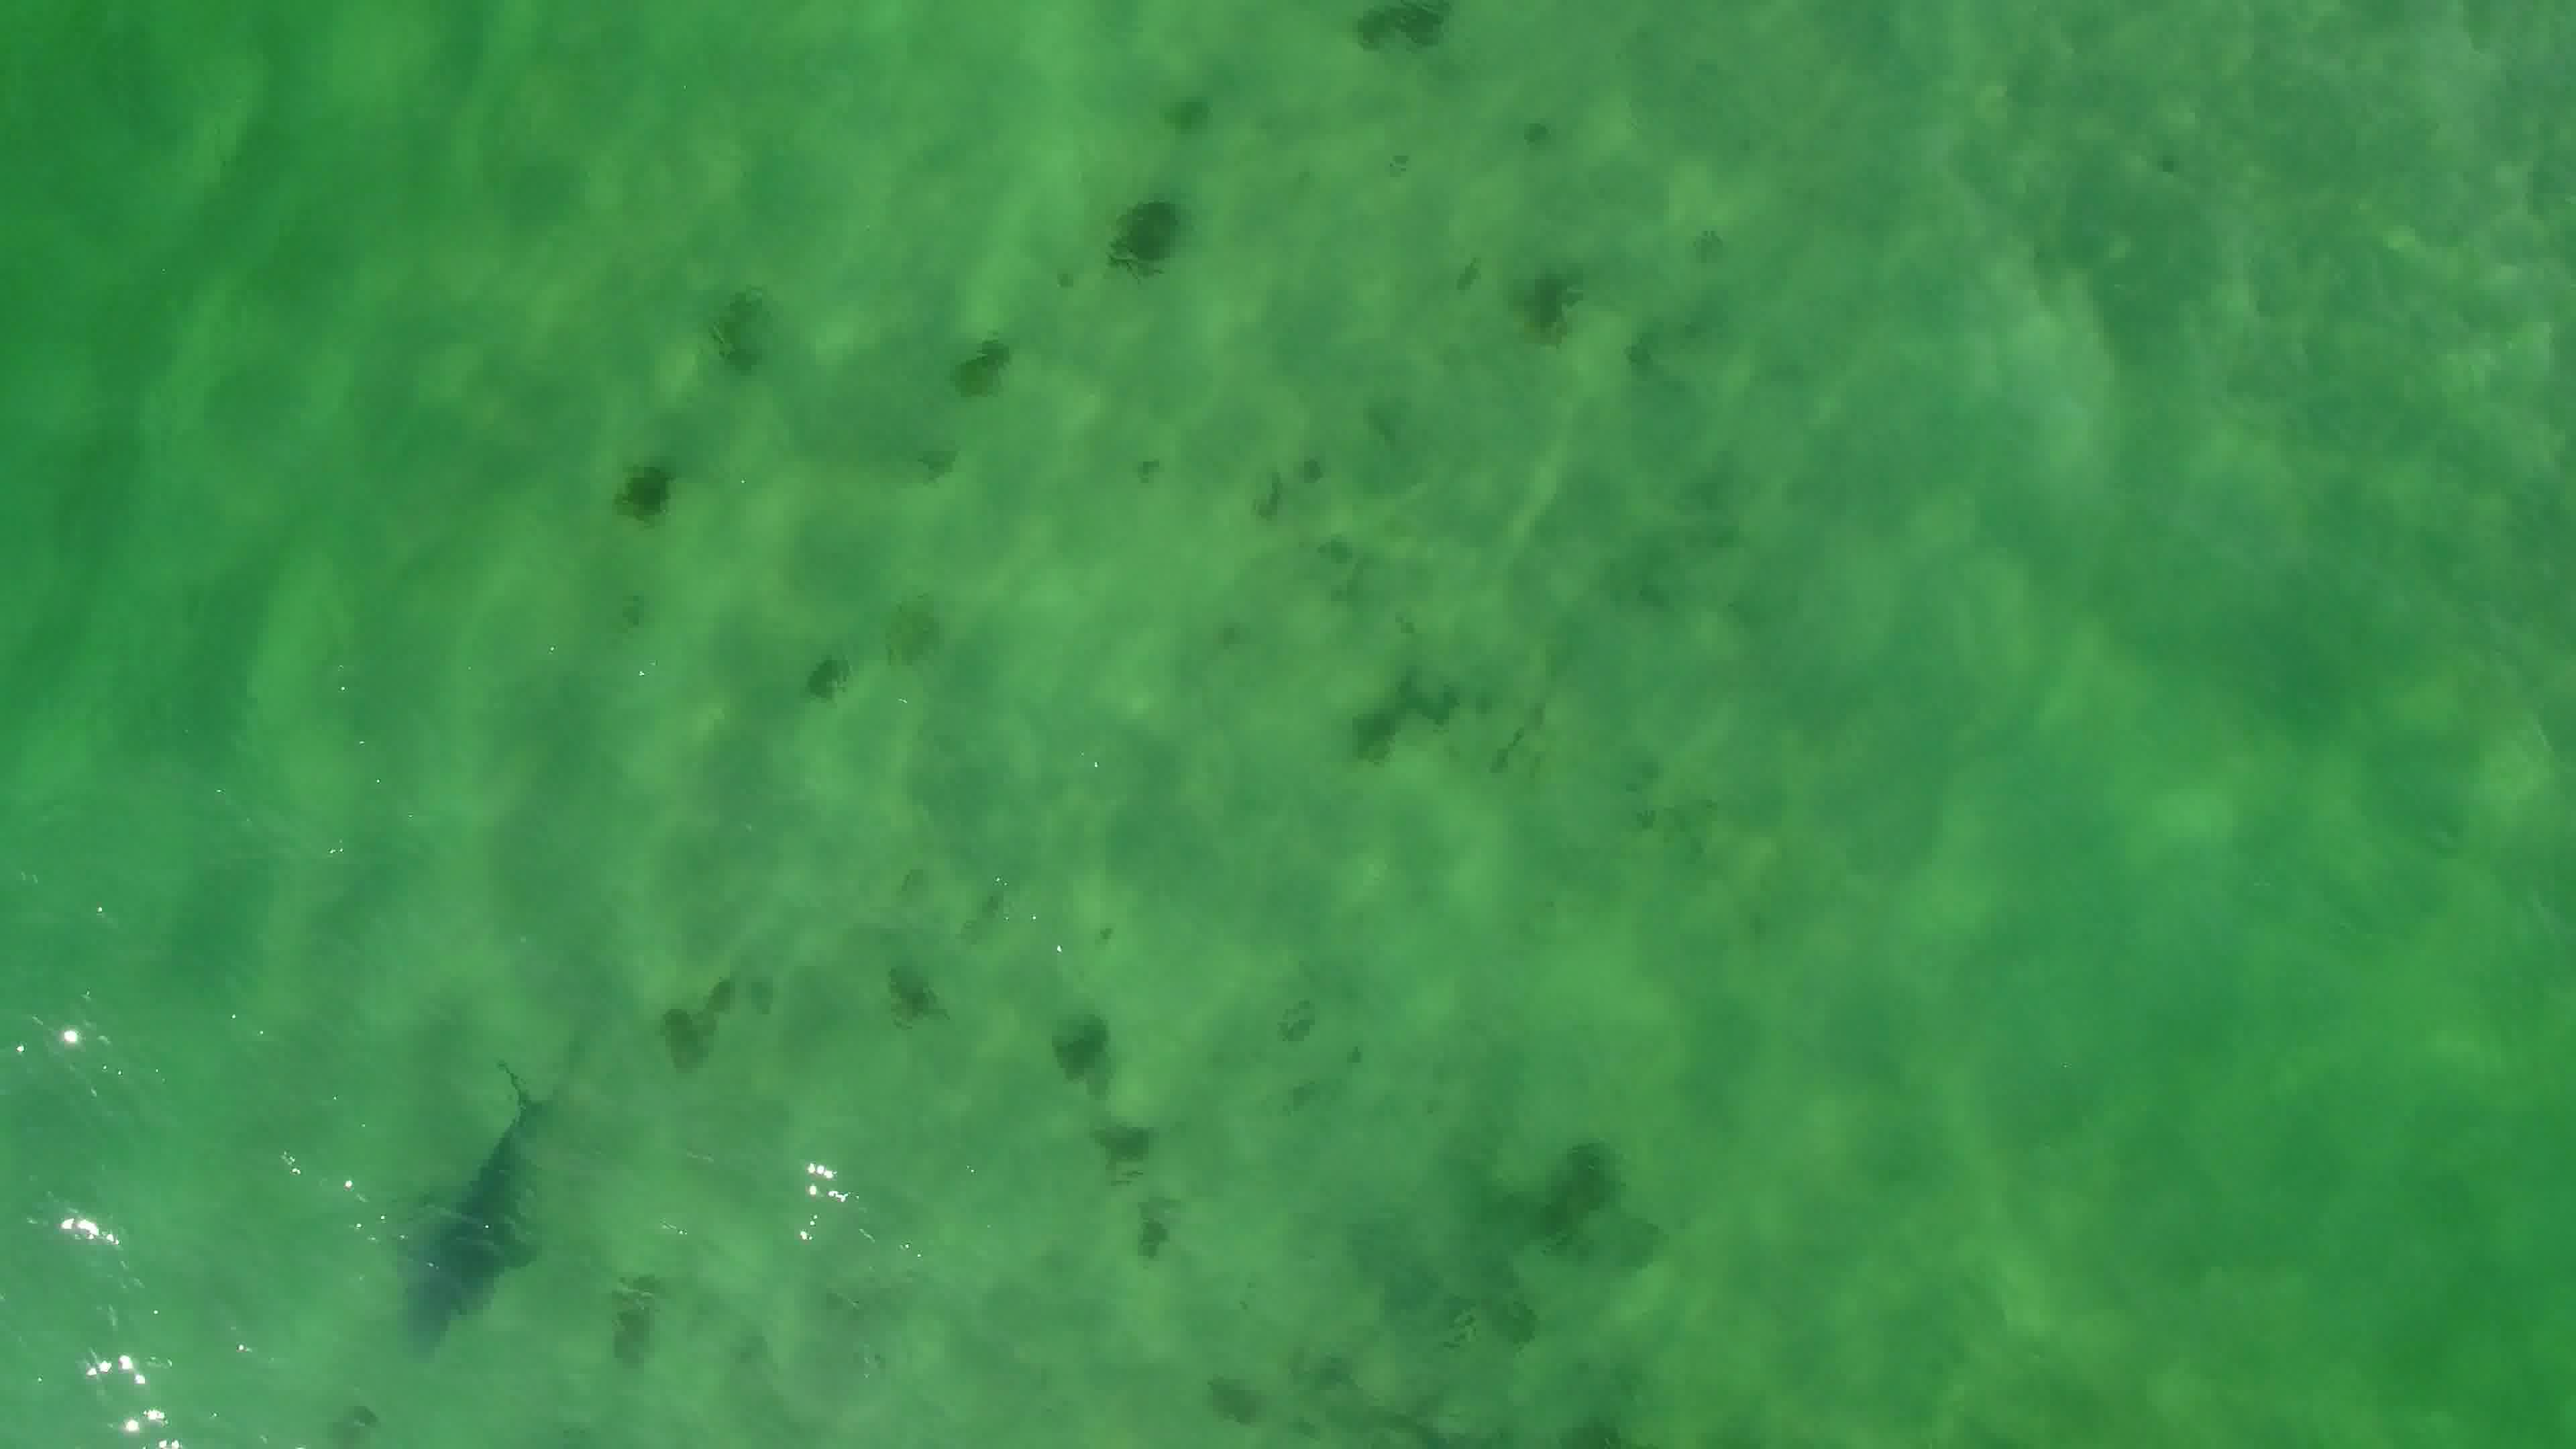shark: (386, 1058, 559, 1359)
